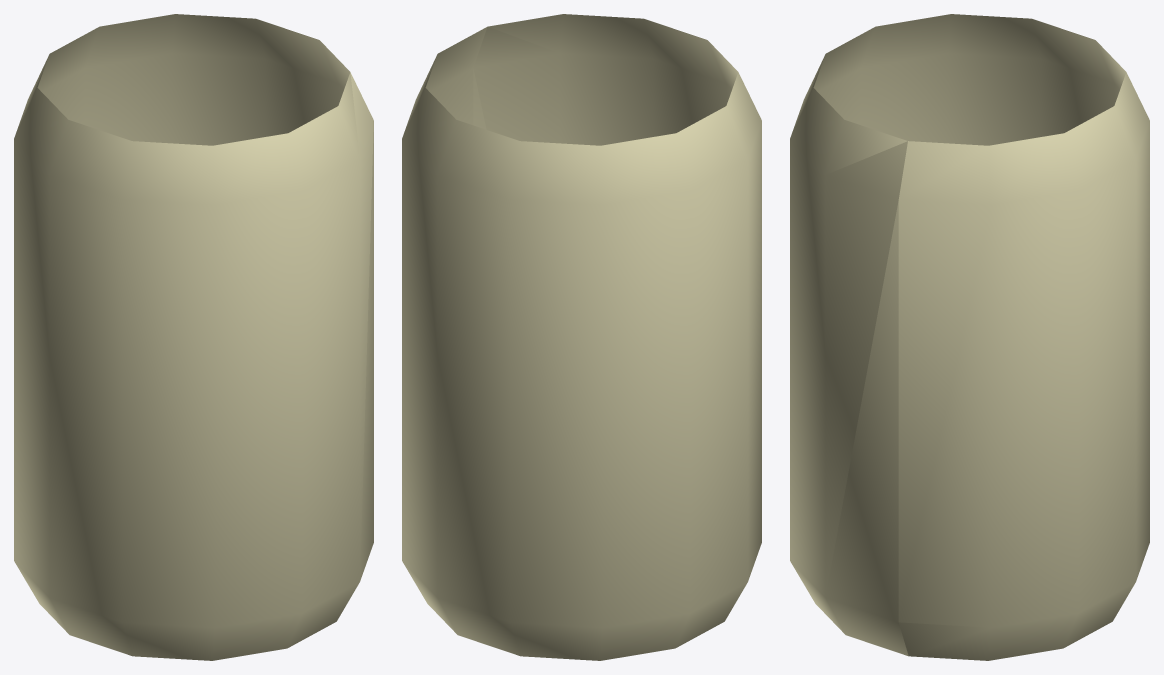
File: TestLampCoverVanilla.fbx
3 renders of one model, left to right at view 1: azimuth 30°, elevation 25°; view 2: azimuth 150°, elevation 25°; view 3: azimuth 270°, elevation 25°, orthographic.
Visible parts, largest first — view 1: TestLamp; view 2: TestLamp; view 3: TestLamp.
Boxes of the visible parts, <box> form: TestLamp: <box>14,14,373,660</box>; TestLamp: <box>402,14,761,660</box>; TestLamp: <box>790,14,1149,660</box>.
Size of the model in its own units: 15.85 by 25.17 by 15.9.
